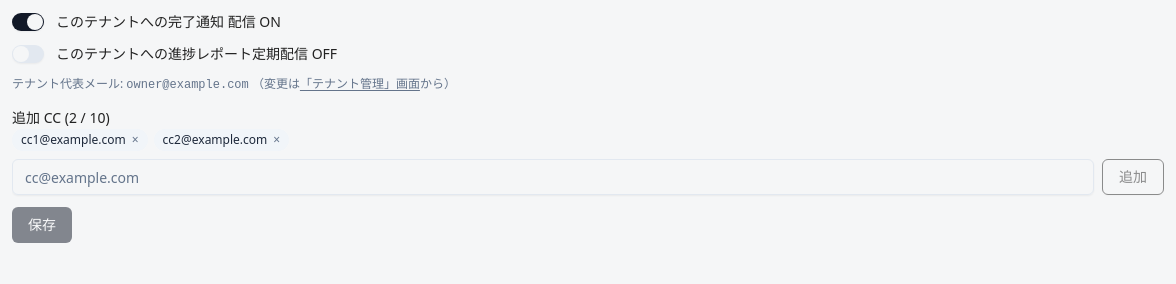
it: TenantCcForm › 無効入力 (format) でエラー、既存 chips が壊れない
The width and height of the screenshot is (1176, 284).
Expected: the text "cc1@example.com" is shown, [21, 131, 126, 148]
Type "not-an-email" into the field named "追加する CC メール" at (553, 177), box [12, 159, 1094, 195]
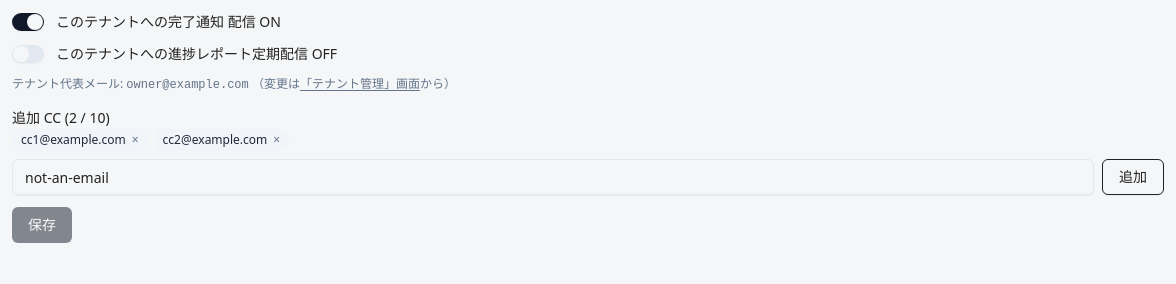
Click the button "追加" at (1133, 177), box [1102, 159, 1164, 195]
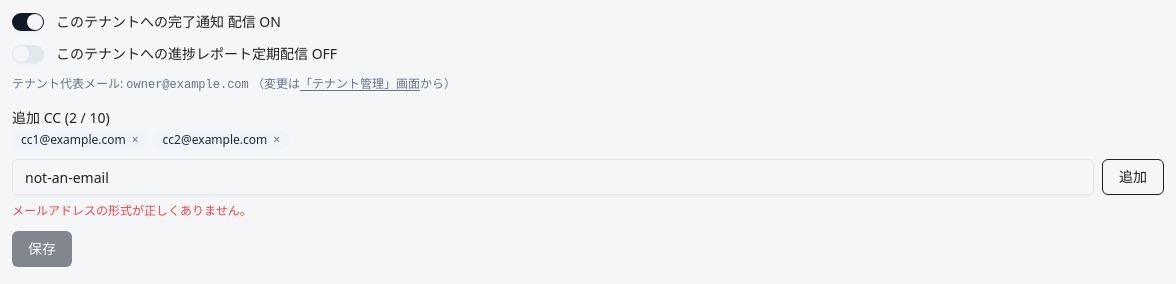
Expected: the text "cc1@example.com" is shown, [21, 131, 126, 148]
Result: the text "メールアドレスの形式が正しくありません。" is shown at [12, 202, 252, 219]
